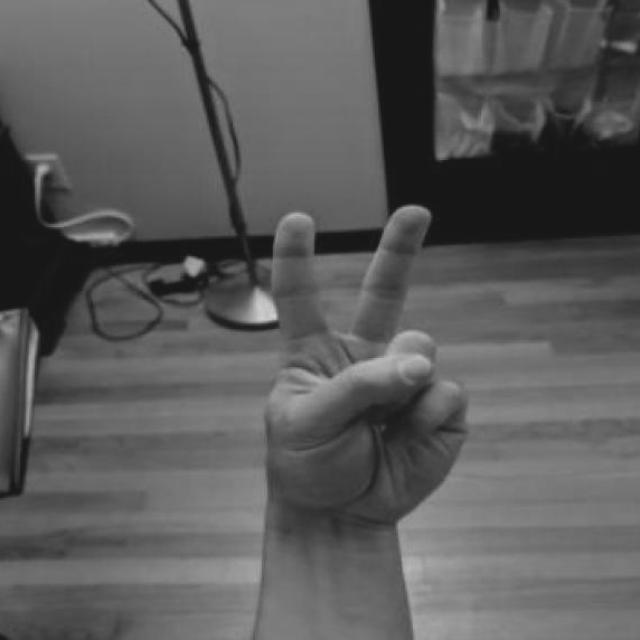V: (256, 197, 499, 640)
